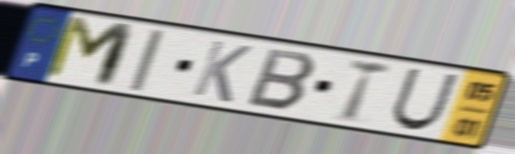B: (243, 45, 320, 113)
I: (126, 27, 168, 94)
K: (188, 37, 256, 106)
M: (40, 13, 139, 92)
T: (340, 56, 396, 125)
U: (387, 65, 462, 132)
